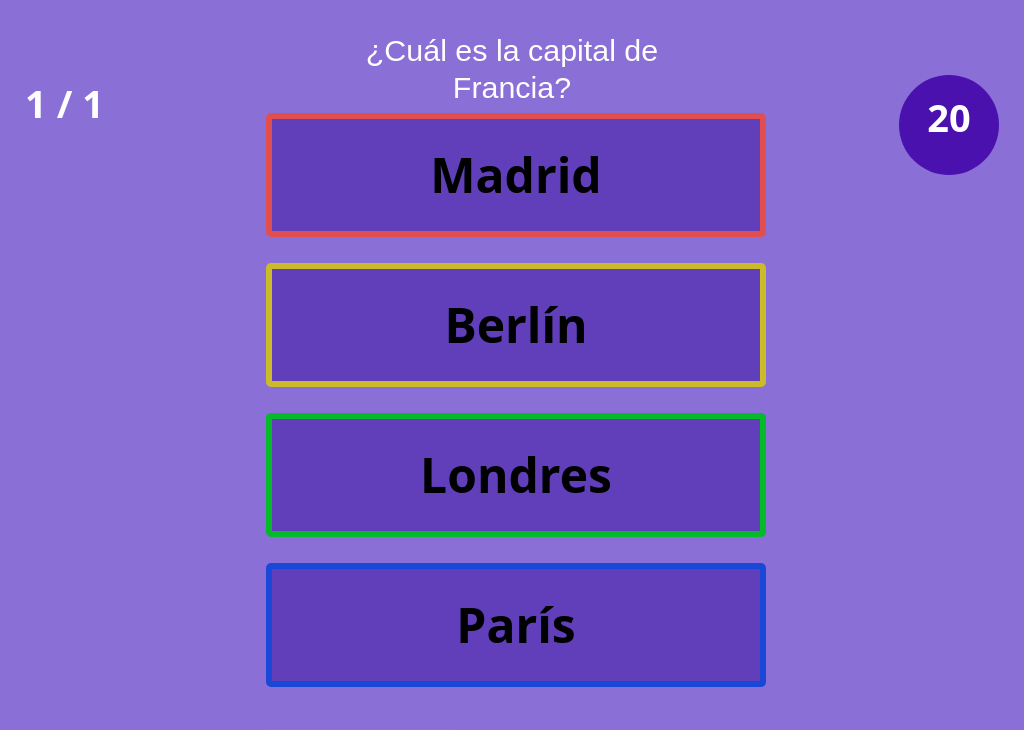
Scenario: Juego component › responde la pregunta correctamente
The width and height of the screenshot is (1024, 730).
expect the heading "¿Cuál es la capital de Francia?" is shown: met, box top-left (366, 33), bottom-right (658, 104)
Click the button "París". click: (516,625)
box: top-left (266, 563), bottom-right (766, 687)
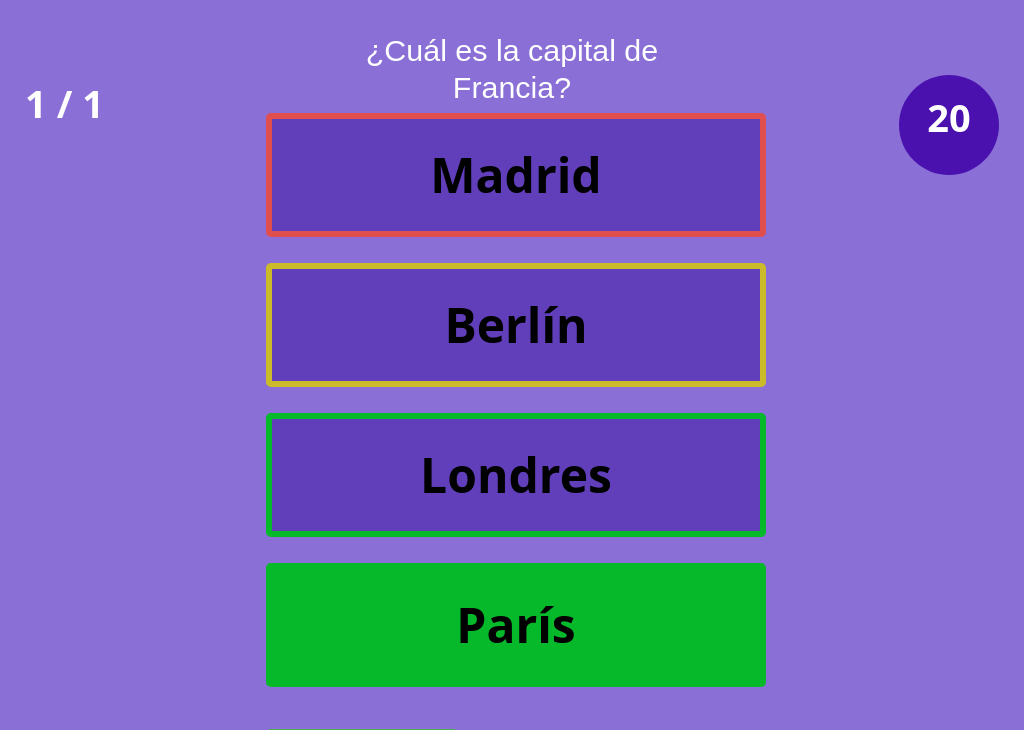
expect the button "Londres" is disabled: met, box top-left (266, 413), bottom-right (766, 537)
expect the button "París" is disabled: met, box top-left (266, 563), bottom-right (766, 687)
